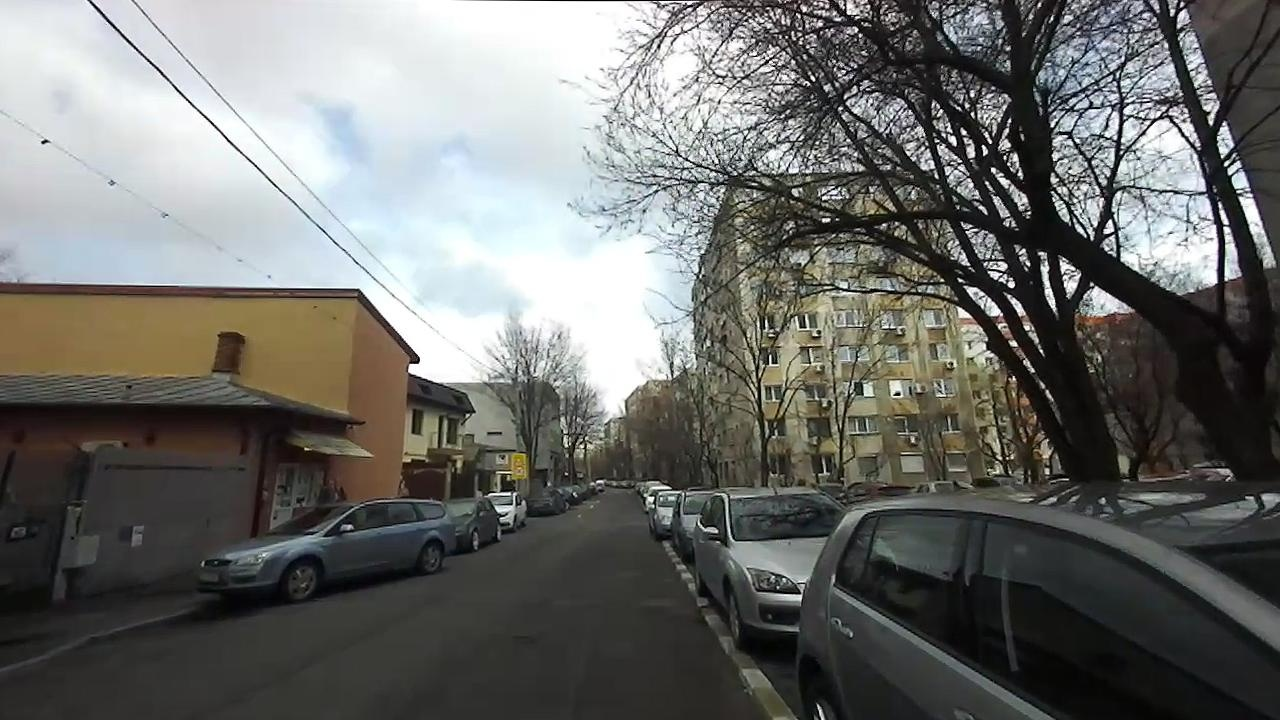pothole: (505, 626, 541, 652)
